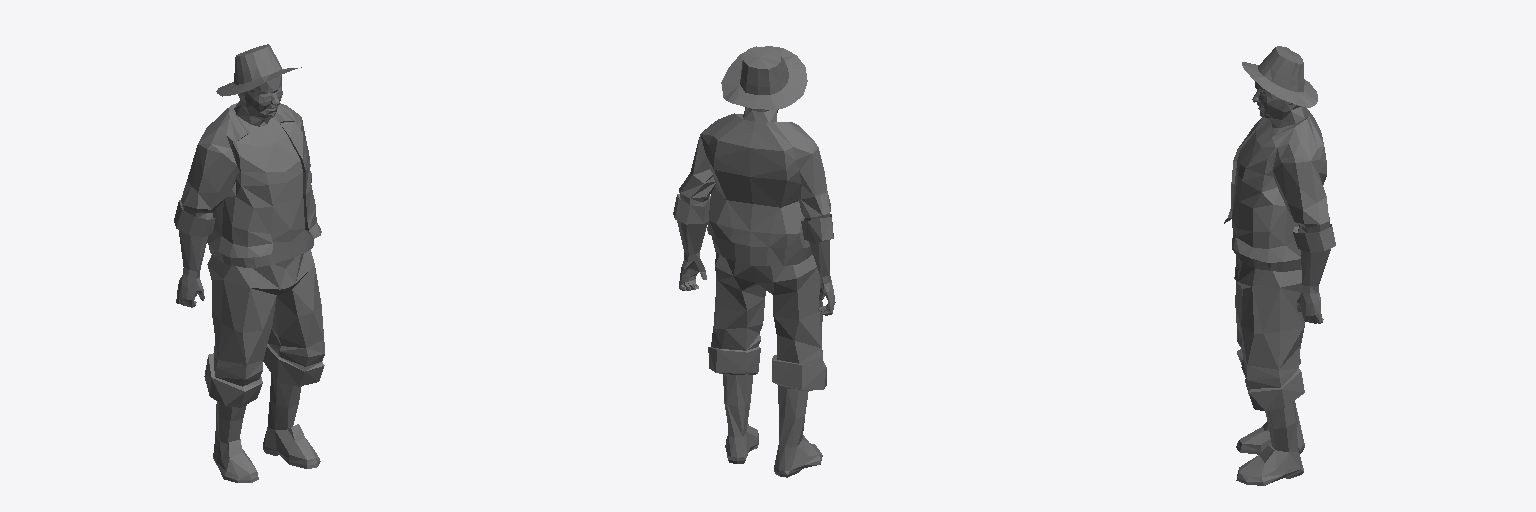
The model's file is person.obj.
3 renders of one model, left to right at view 1: azimuth 30°, elevation 25°; view 2: azimuth 150°, elevation 25°; view 3: azimuth 270°, elevation 25°, orthographic.
Parts seen in each view (by area): view 1: Servant_1_Servant_1_Servant_1; view 2: Servant_1_Servant_1_Servant_1; view 3: Servant_1_Servant_1_Servant_1.
Part boxes in pixels (x1,y1,x2,y2): Servant_1_Servant_1_Servant_1: (174,44,324,482); Servant_1_Servant_1_Servant_1: (673,46,835,477); Servant_1_Servant_1_Servant_1: (1224,46,1335,485).
Size of the model in its own units: 0.6666 by 1.81 by 0.4486.